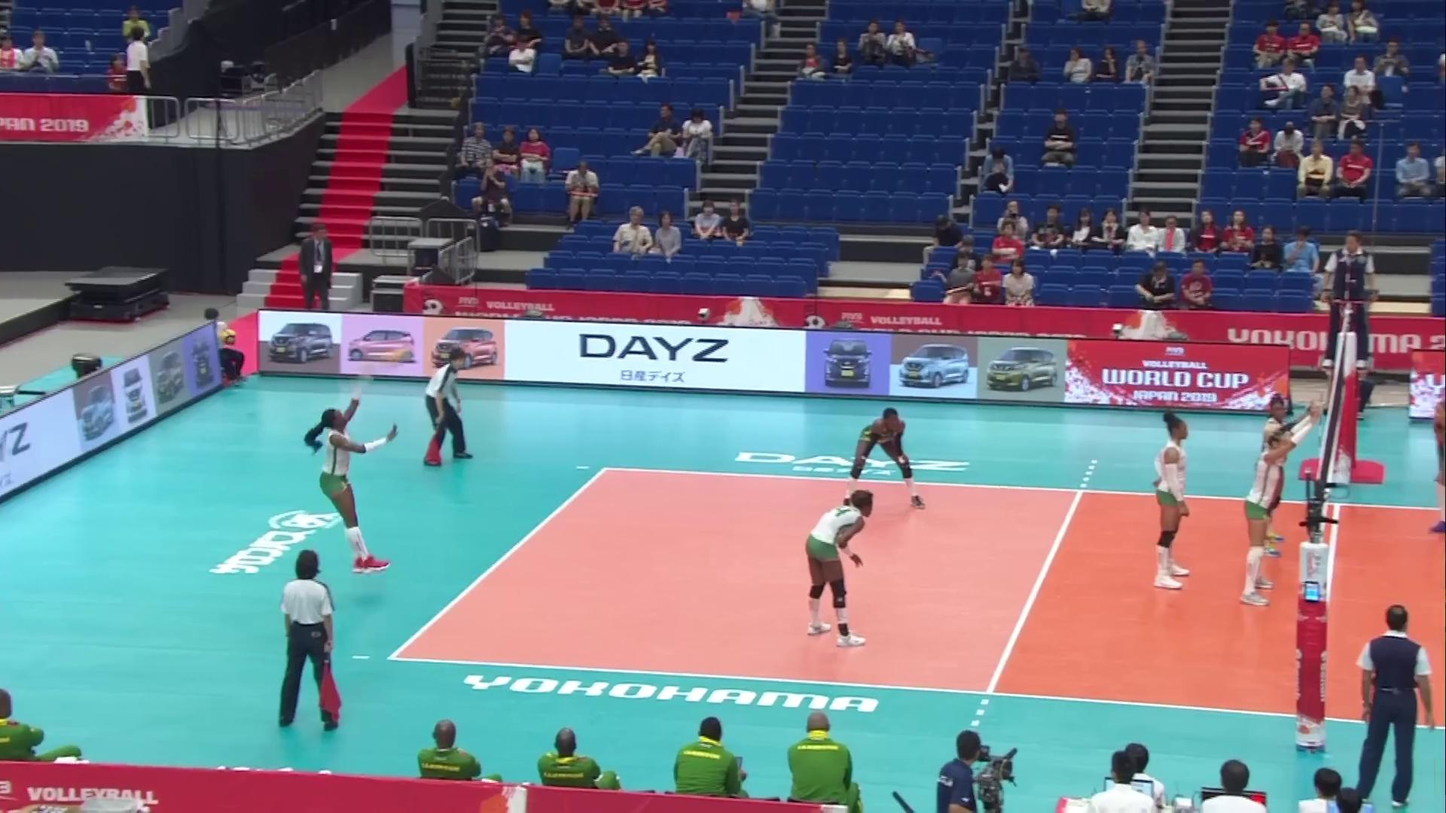player: (311, 392, 401, 571), (1246, 409, 1317, 606), (803, 492, 879, 647), (1152, 412, 1196, 590), (847, 409, 925, 508), (1258, 391, 1294, 559)
refree: (1355, 603, 1435, 813), (275, 553, 337, 727), (1322, 228, 1374, 369), (422, 348, 471, 470)
